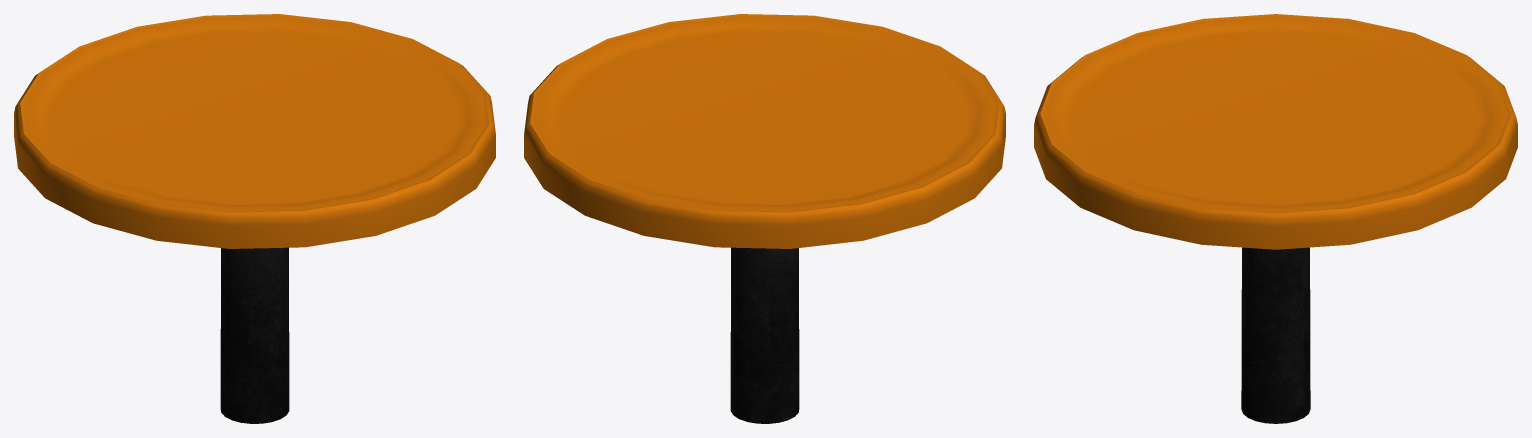
File: stool without stain.fbx
3 renders of one model, left to right at view 1: azimuth 30°, elevation 25°; view 2: azimuth 150°, elevation 25°; view 3: azimuth 270°, elevation 25°, orthographic.
Parts seen in each view (by area): view 1: pCylinder5; view 2: pCylinder5; view 3: pCylinder5.
Boxes of the visible parts, x1,y1,x2,y2 form: pCylinder5: [14, 14, 495, 423]; pCylinder5: [524, 14, 1005, 423]; pCylinder5: [1034, 14, 1517, 423].
Bounding box in the file's own units: 0.7 × 0.4721 × 0.7.
Materials: 2 (2 with a texture image).
